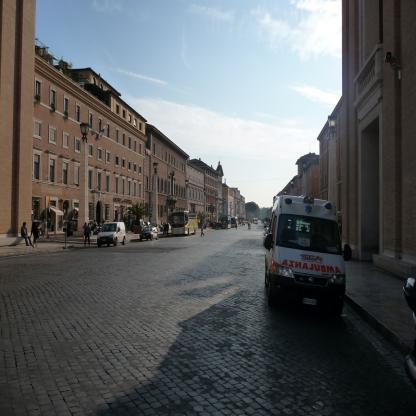ambulance_off: (263, 195, 348, 322)
